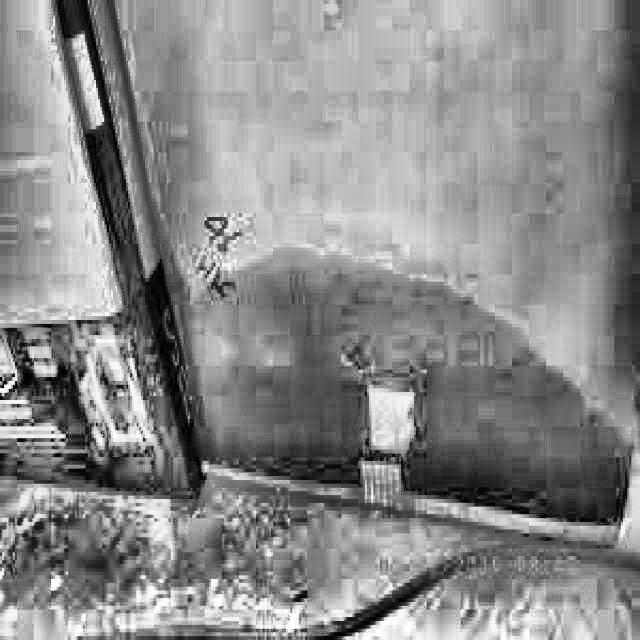box: (0, 0, 639, 554)
wet: (158, 224, 632, 554)
